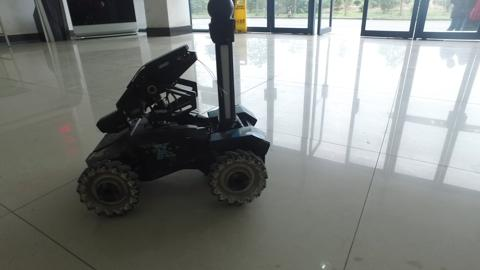chariot: (74, 1, 271, 219)
